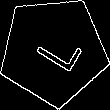L_NW: (25, 25, 82, 77)
